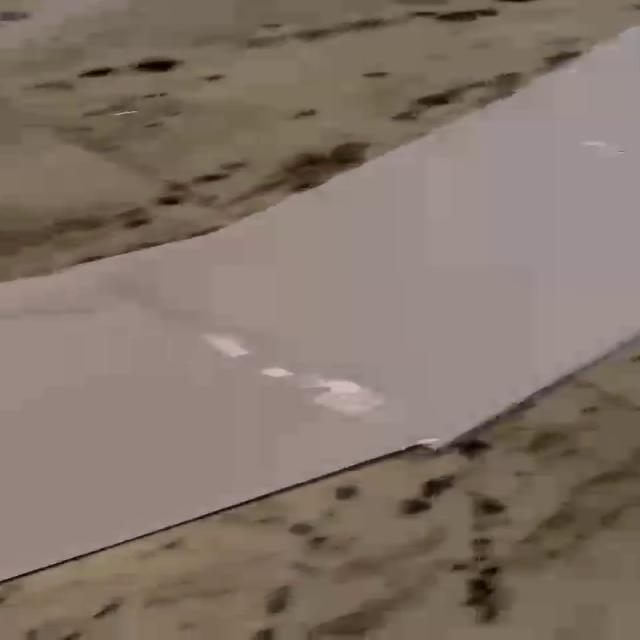road: (1, 29, 637, 579)
